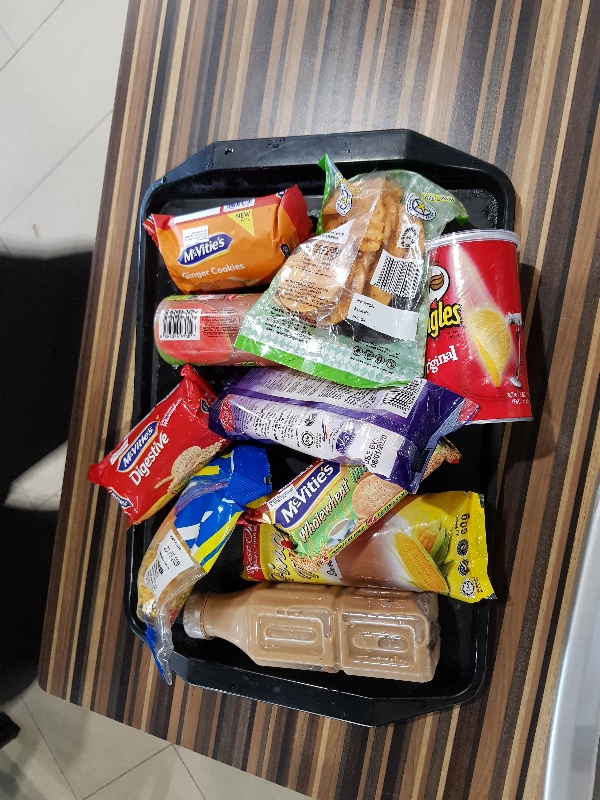Marigold Peel Fresh Pink Guava Juice Drink: (151, 293, 276, 366)
McVitie's Ginger Cookies: (144, 184, 312, 294)
McVitie's Wholewheat Marie: (244, 437, 462, 561)
Mcvitie's Digestive: (89, 363, 228, 524)
Mocha: (181, 582, 441, 683)
Pringles Original: (425, 229, 533, 426)
Star Tidbits 'O' Ring: (237, 154, 468, 385)
Star Tidbits Mixer: (135, 444, 272, 685)
Tinges Roll Chocolate: (210, 366, 480, 492)
Tinges Roll Sweet Corn: (240, 491, 494, 603)
